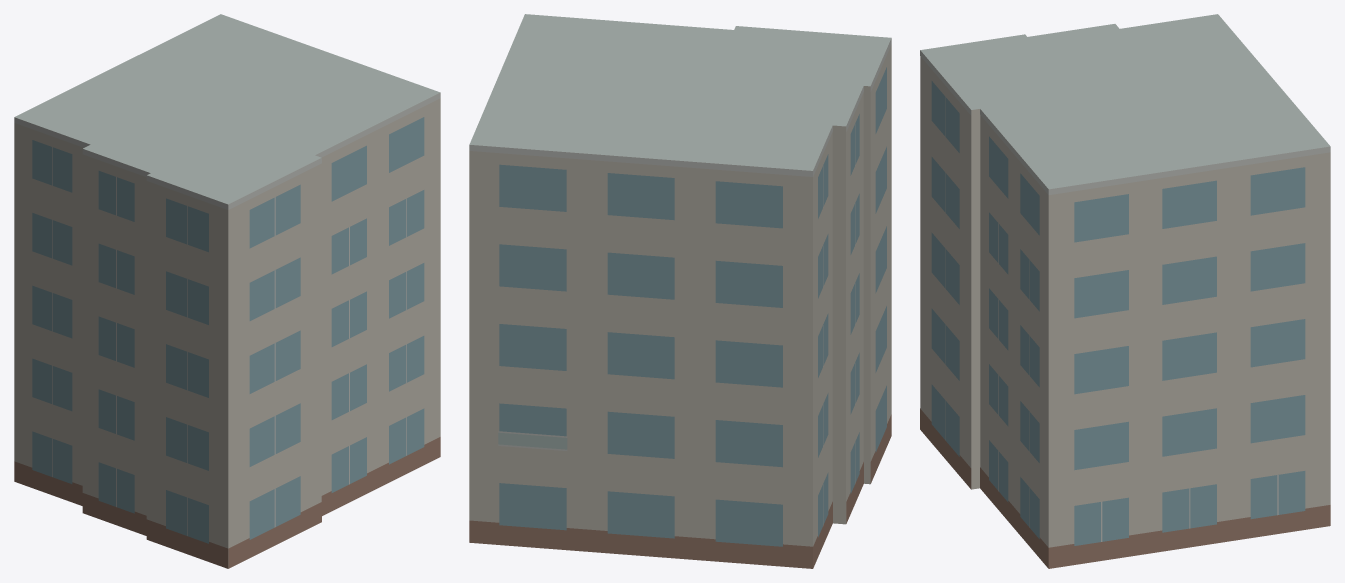
The model's file is survey-upis-33010303.glb.
3 views of the same model, side by side, from view 1: azimuth 30°, elevation 25°; view 2: azimuth 150°, elevation 25°; view 3: azimuth 270°, elevation 25° (orthographic). The views are drawn at different scales.
Parts seen in each view (by area): view 1: survey-upis-33010303.tmp; view 2: survey-upis-33010303.tmp; view 3: survey-upis-33010303.tmp.
Part boxes in pixels (left/top/right/bottom): survey-upis-33010303.tmp: left=14, top=14, right=440, bottom=568; survey-upis-33010303.tmp: left=469, top=14, right=891, bottom=568; survey-upis-33010303.tmp: left=920, top=14, right=1330, bottom=568.
Size of the model in its own units: 15.72 by 15.85 by 15.55.
